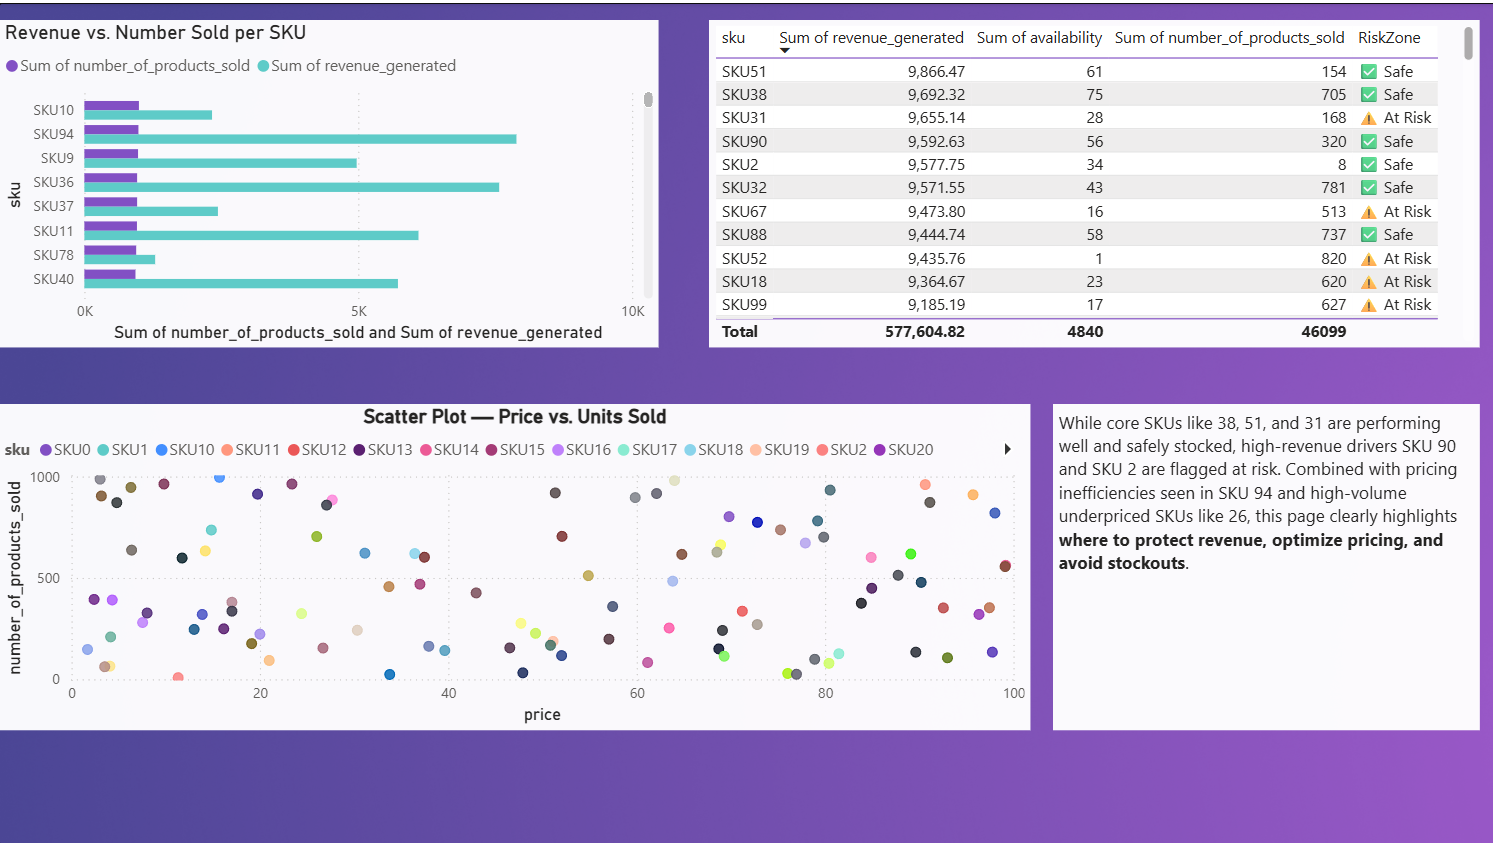

Layout of this report page (visuals, bound fields, positions):
{"tool":"powerbi","page":{"name":"KU Performance Deep Dive","canvas":[1280,720],"ordinal":1},"visuals":[{"type":"clusteredBarChart","title":"Revenue vs. Number Sold per SKU","fields":{"Category":["cleaned_supply_chain_data.sku"],"Y":["Sum(cleaned_supply_chain_data.number_of_products_sold)","Sum(cleaned_supply_chain_data.revenue_generated)"]},"box":[10.3,0,564.3,280.4],"z":0},{"type":"scatterChart","title":"Scatter Plot — Price vs. Units Sold","fields":{"X":["cleaned_supply_chain_data.price"],"Y":["cleaned_supply_chain_data.number_of_products_sold"],"Series":["cleaned_supply_chain_data.sku"]},"box":[0,359.6,882.6,278.7],"z":1000},{"type":"tableEx","fields":{"Values":["cleaned_supply_chain_data.sku","Sum(cleaned_supply_chain_data.revenue_generated)","Sum(cleaned_supply_chain_data.availability)","Sum(cleaned_supply_chain_data.number_of_products_sold)","cleaned_supply_chain_data.RiskZone"]},"box":[593.5,0,672.7,280.4],"z":2000},{"type":"textbox","box":[901.5,359.6,364.7,278.7],"z":3000}]}

Visuals, with their boxes in screenshot pixels (x1, y1, x2, y2), scaled from the page's 1280x720 canvas onto the 1493x843 screenshot:
"Revenue vs. Number Sold per SKU" clusteredBarChart: (12, 0, 670, 328)
"Scatter Plot — Price vs. Units Sold" scatterChart: (0, 421, 1029, 747)
tableEx - cleaned_supply_chain_data.sku x Sum(cleaned_supply_chain_data.revenue_generated): (692, 0, 1477, 328)
textbox: (1052, 421, 1477, 747)
